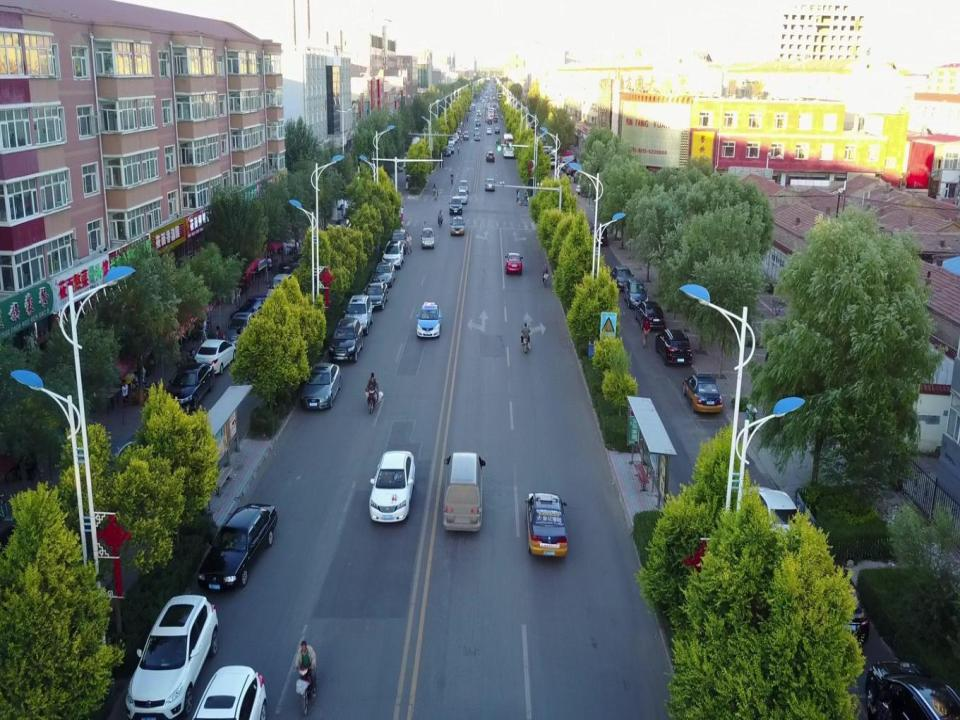bus: (502, 135, 514, 157)
car: (125, 595, 219, 720), (198, 503, 278, 587), (865, 661, 960, 719), (806, 565, 869, 649), (742, 487, 802, 555), (190, 668, 266, 720), (369, 451, 415, 523), (524, 492, 567, 557), (163, 362, 215, 410), (301, 362, 341, 410), (329, 318, 363, 363), (683, 373, 722, 412), (194, 338, 236, 374), (656, 329, 692, 366), (229, 296, 270, 328), (344, 295, 372, 335), (224, 313, 254, 349), (416, 301, 441, 338), (635, 301, 665, 329), (623, 278, 649, 308), (266, 274, 294, 299), (364, 282, 388, 310), (381, 241, 405, 269), (610, 265, 634, 292), (279, 254, 308, 274), (372, 263, 395, 287), (504, 252, 523, 275), (589, 224, 607, 246), (392, 230, 407, 253), (450, 216, 464, 236), (421, 228, 434, 248), (449, 196, 462, 214), (457, 180, 469, 194), (456, 190, 467, 203), (485, 179, 495, 191), (486, 150, 495, 162), (447, 145, 454, 153), (444, 148, 450, 157), (494, 127, 500, 134), (474, 128, 479, 136), (486, 128, 491, 135), (475, 134, 480, 141), (476, 120, 480, 126)
van: (441, 452, 485, 532), (464, 131, 468, 139)
